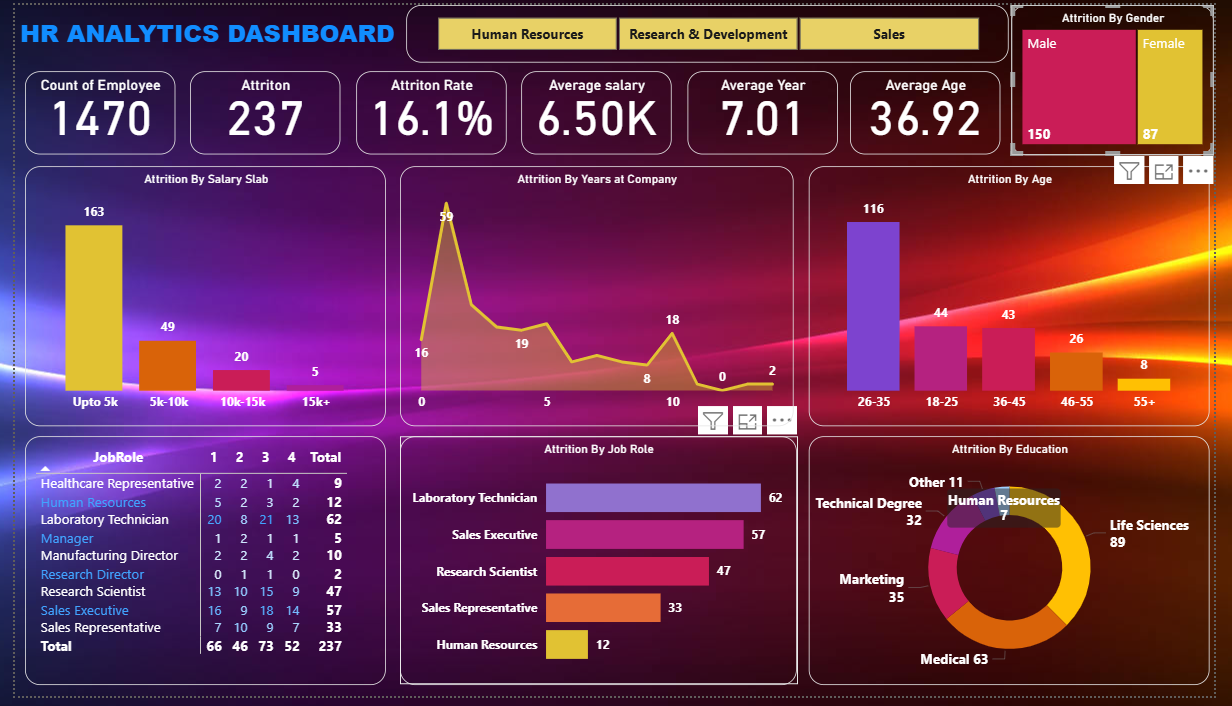

The dashboard page shown, as its layout file describes it:
{"tool":"powerbi","page":{"name":"Page 1","canvas":[1199,691],"ordinal":0},"visuals":[{"type":"card","title":"Count of Employee","fields":{"Values":["CountNonNull(HR_Analytics.EmpID)"]},"box":[10,66.7,150,83.3],"z":0},{"type":"card","title":"Average Age","fields":{"Values":["Avg(HR_Analytics.Age)"]},"box":[835.6,66.7,150,83.3],"z":1000},{"type":"card","title":"Attriton Rate","fields":{"Values":["HR_Analytics.Attrition Rate"]},"box":[341.1,66.7,150,83.3],"z":2000},{"type":"card","title":"Attriton","fields":{"Values":["Sum(HR_Analytics.Attrition Count)"]},"box":[174.4,66.7,150,83.3],"z":3000},{"type":"card","title":"Average salary","fields":{"Values":["Avg(HR_Analytics.MonthlyIncome)"]},"box":[506.7,66.7,150,83.3],"z":4000},{"type":"card","title":"Average Year","fields":{"Values":["Avg(HR_Analytics.YearsAtCompany)"]},"box":[672.2,66.7,150,83.3],"z":5000},{"type":"donutChart","title":"Attrition By Education","fields":{"Category":["HR_Analytics.EducationField"],"Y":["Sum(HR_Analytics.Attrition Count)"]},"box":[793.3,431.1,401.1,248.9],"z":6000},{"type":"columnChart","title":"Attrition By Age","fields":{"Category":["HR_Analytics.AgeGroup"],"Y":["Sum(HR_Analytics.Attrition Count)"]},"box":[793.3,161.1,401.1,260],"z":7000},{"type":"pivotTable","fields":{"Rows":["HR_Analytics.JobRole"],"Columns":["HR_Analytics.JobSatisfaction"],"Values":["Sum(HR_Analytics.Attrition Count)"]},"box":[10,431.1,361.1,248.9],"z":8000},{"type":"clusteredBarChart","title":"Attrition By Job Role","fields":{"Category":["HR_Analytics.JobRole"],"Y":["Sum(HR_Analytics.Attrition Count)"]},"box":[385.6,431.1,396.7,248.9],"z":9000},{"type":"areaChart","title":"Attrition By Years at Company","fields":{"Category":["HR_Analytics.YearsAtCompany"],"Y":["Sum(HR_Analytics.Attrition Count)"]},"box":[385.6,161.1,393.3,260],"z":10000},{"type":"clusteredColumnChart","title":"Attrition By Salary Slab","fields":{"Category":["HR_Analytics.SalarySlab"],"Y":["Sum(HR_Analytics.Attrition Count)"]},"box":[10,161.1,361.1,260],"z":11000},{"type":"treemap","title":"Attrition By Gender","fields":{"Group":["HR_Analytics.Gender"],"Values":["Sum(HR_Analytics.Attrition Count)"]},"box":[996.7,0,202.2,150],"z":12000},{"type":"slicer","fields":{"Values":["HR_Analytics.Department"]},"box":[391.1,0,602.2,57.8],"z":13000},{"type":"textbox","box":[0,6.7,441.1,51.1],"z":14000}]}

Visuals, with their boxes in screenshot pixels (x1, y1, x2, y2), scaled from the page's 1199x691 canvas onto the 1232x706 screenshot:
"Count of Employee" card: <region>10, 68, 164, 153</region>
"Average Age" card: <region>859, 68, 1013, 153</region>
"Attriton Rate" card: <region>350, 68, 505, 153</region>
"Attriton" card: <region>179, 68, 333, 153</region>
"Average salary" card: <region>521, 68, 675, 153</region>
"Average Year" card: <region>691, 68, 845, 153</region>
"Attrition By Education" donutChart: <region>815, 440, 1227, 695</region>
"Attrition By Age" columnChart: <region>815, 165, 1227, 430</region>
pivotTable - HR_Analytics.JobRole x HR_Analytics.JobSatisfaction: <region>10, 440, 381, 695</region>
"Attrition By Job Role" clusteredBarChart: <region>396, 440, 804, 695</region>
"Attrition By Years at Company" areaChart: <region>396, 165, 800, 430</region>
"Attrition By Salary Slab" clusteredColumnChart: <region>10, 165, 381, 430</region>
"Attrition By Gender" treemap: <region>1024, 0, 1231, 153</region>
slicer - HR_Analytics.Department: <region>402, 0, 1021, 59</region>
textbox: <region>0, 7, 453, 59</region>
